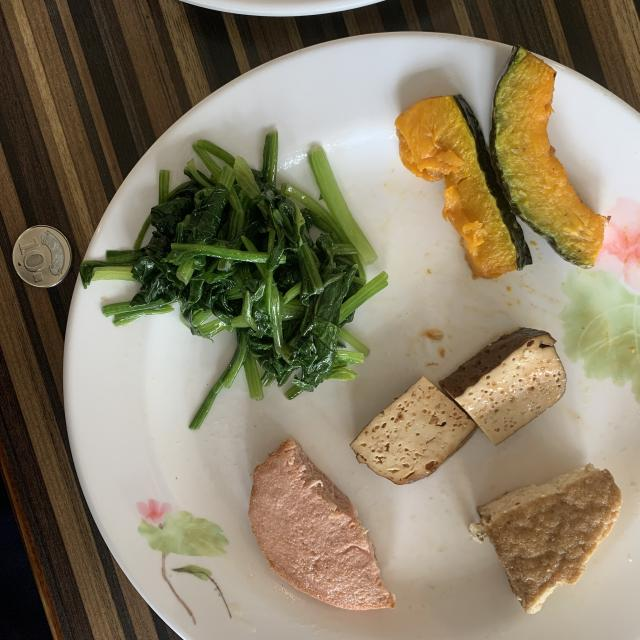Spam: (249, 439, 395, 610)
coin: (12, 225, 71, 288)
egg tofu: (469, 464, 621, 614)
firm tofu: (350, 328, 566, 484)
mustard greens: (81, 131, 386, 429)
pumpkin: (395, 46, 608, 279)
